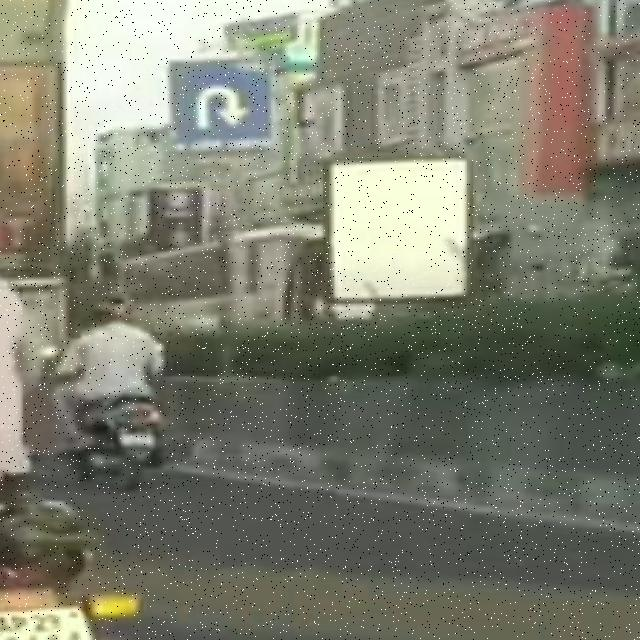Uturn: (160, 49, 283, 160)
